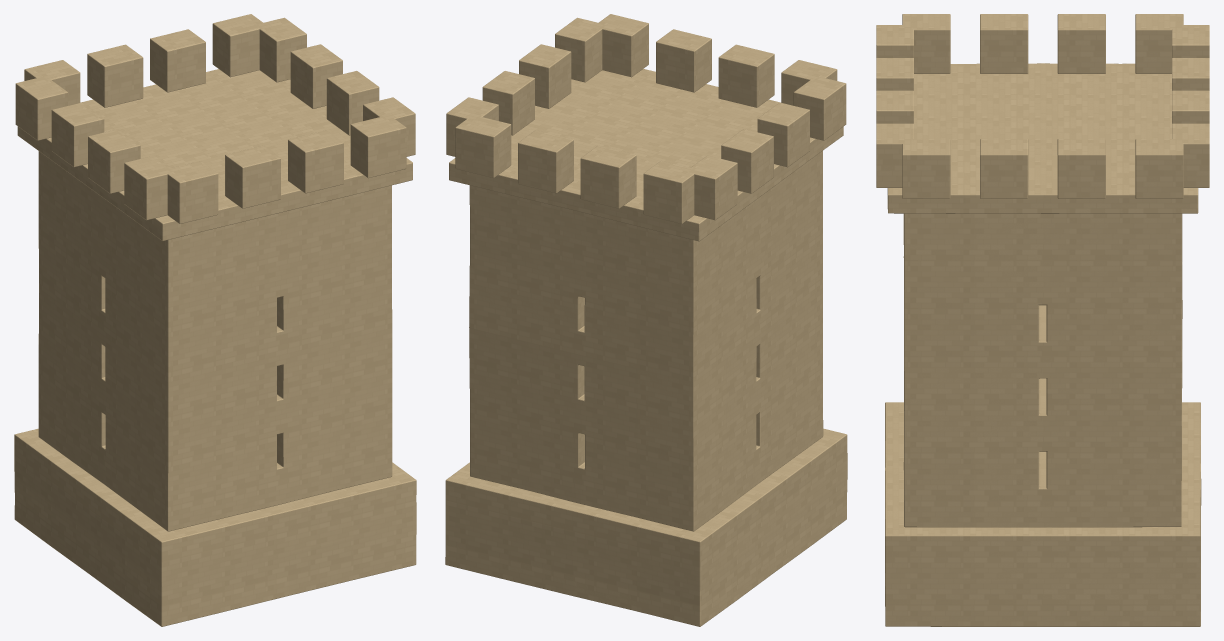
File: w_tower.glb
3 renders of one model, left to right at view 1: azimuth 30°, elevation 25°; view 2: azimuth 150°, elevation 25°; view 3: azimuth 270°, elevation 25°, orthographic. The views are drawn at different scales.
Visible parts, largest first — view 1: tower; view 2: tower; view 3: tower.
Boxes of the visible parts, x1,y1,x2,y2 form: tower: [14, 14, 416, 626]; tower: [445, 14, 847, 626]; tower: [876, 14, 1209, 626].
Size of the model in its own units: 13.2 by 20.81 by 13.2.
1 material, 1 textured.
